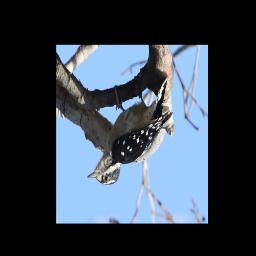Woodpecker: (85, 78, 174, 186)
